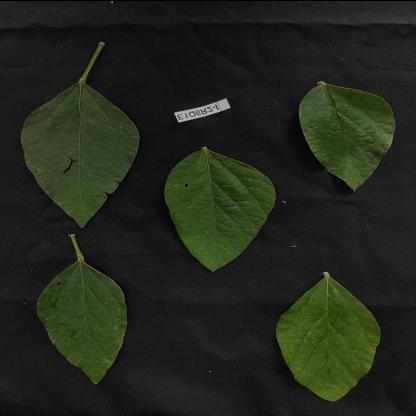label: (162, 99, 242, 116)
leaflets: (11, 78, 141, 228), (266, 272, 404, 406), (16, 254, 145, 390), (152, 142, 272, 277), (290, 70, 403, 212)
